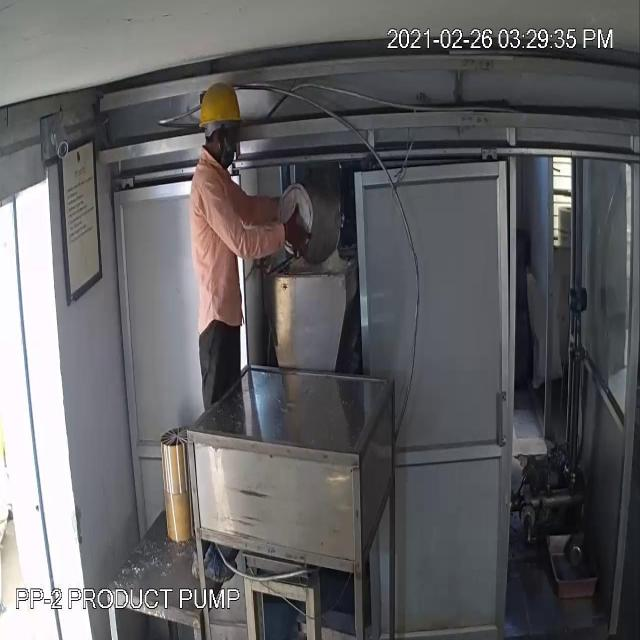helmet: (196, 77, 247, 138)
